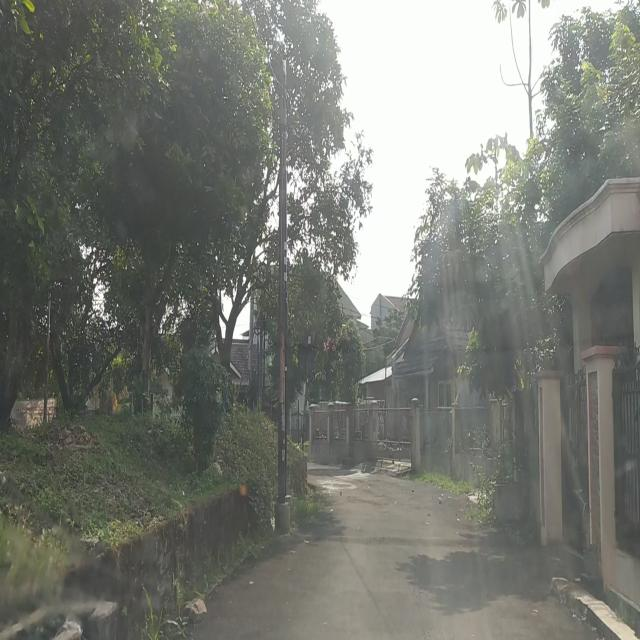Drain Hole: (412, 582, 431, 640)
